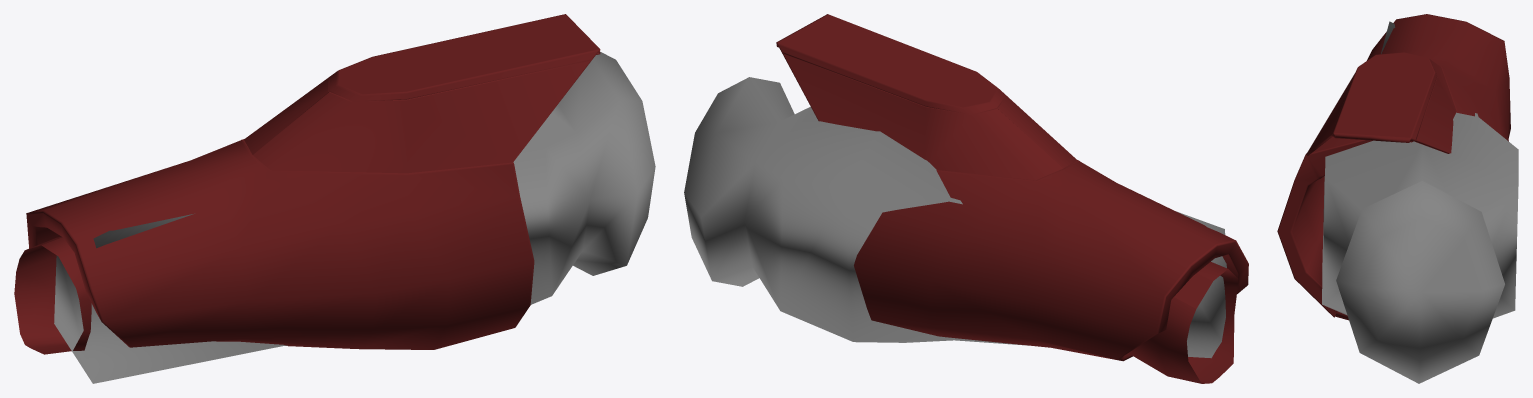
The model's file is relbow.obj.
The picture shows the model from 3 angles, left to right: view 1: azimuth 30°, elevation 25°; view 2: azimuth 150°, elevation 25°; view 3: azimuth 270°, elevation 25°; orthographic projection. The views are drawn at different scales.
Parts seen in each view (by area): view 1: IronMan:null_58, IronMan:null_145, IronMan:null_2; view 2: IronMan:null_58, IronMan:null_145, IronMan:null_2; view 3: IronMan:null_145, IronMan:null_58.
Part boxes in pixels (<box>): IronMan:null_58: <box>26,14,600,349</box>; IronMan:null_145: <box>54,51,655,383</box>; IronMan:null_2: <box>14,236,91,354</box>; IronMan:null_58: <box>776,14,1248,361</box>; IronMan:null_145: <box>684,77,1226,358</box>; IronMan:null_2: <box>1128,262,1238,383</box>; IronMan:null_145: <box>1322,21,1518,383</box>; IronMan:null_58: <box>1277,14,1510,320</box>.
Size of the model in its own units: 41.59 by 19.85 by 17.43.
